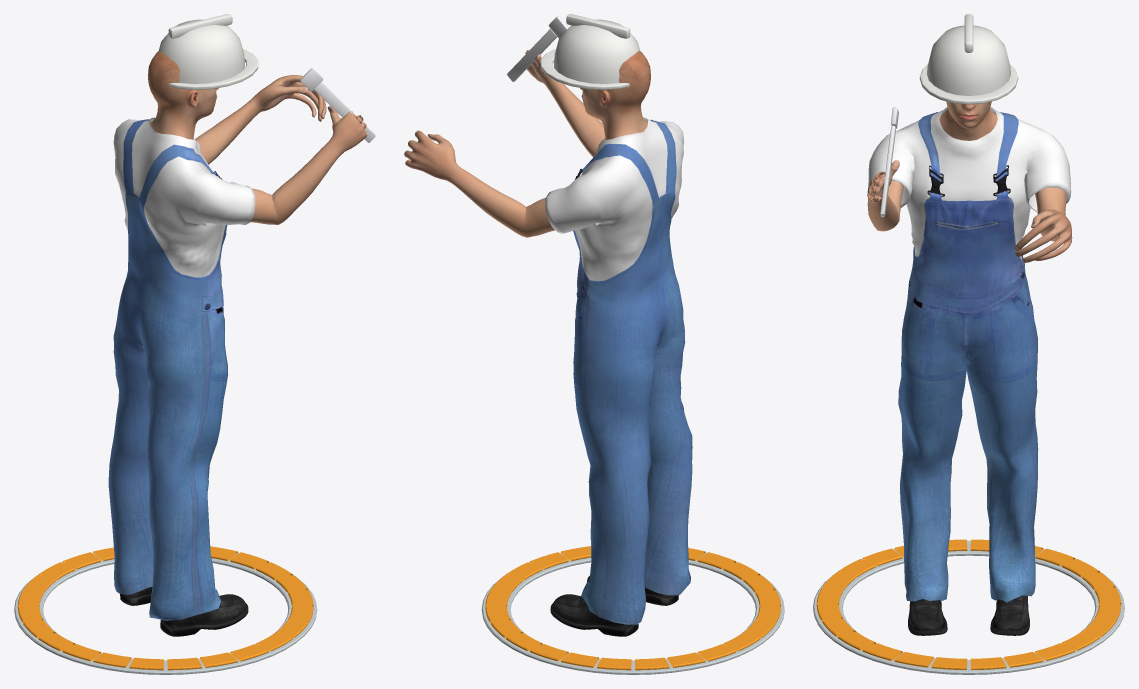
The model's file is MDO-OBR-010.glb.
The picture shows the model from 3 angles, left to right: view 1: azimuth 30°, elevation 25°; view 2: azimuth 150°, elevation 25°; view 3: azimuth 270°, elevation 25°; orthographic projection. The views are drawn at different scales.
Visible parts, largest first — view 1: MDO-OBR-010_pessoa_male_worksuit01, MDO-OBR-010_pessoa, MDO-OBR-010_capacete, MDO-OBR-010_anel_fundo, MDO-OBR-010_pessoa_shoes04, MDO-OBR-010_capacete_aba, MDO-OBR-010_capacete_friso, MDO-OBR-010_ferD_cabo; view 2: MDO-OBR-010_pessoa_male_worksuit01, MDO-OBR-010_pessoa, MDO-OBR-010_capacete, MDO-OBR-010_anel_fundo, MDO-OBR-010_pessoa_shoes04, MDO-OBR-010_capacete_aba, MDO-OBR-010_ferD_cabo, MDO-OBR-010_capacete_friso; view 3: MDO-OBR-010_pessoa_male_worksuit01, MDO-OBR-010_pessoa, MDO-OBR-010_capacete, MDO-OBR-010_anel_fundo, MDO-OBR-010_pessoa_shoes04, MDO-OBR-010_capacete_aba, MDO-OBR-010_ferD_cabo.
Boxes of the visible parts, <box> form: MDO-OBR-010_pessoa_male_worksuit01: <box>108,117,255,620</box>; MDO-OBR-010_pessoa: <box>148,51,367,224</box>; MDO-OBR-010_capacete: <box>158,19,244,83</box>; MDO-OBR-010_anel_fundo: <box>14,552,317,674</box>; MDO-OBR-010_pessoa_shoes04: <box>120,587,248,636</box>; MDO-OBR-010_capacete_aba: <box>169,49,258,89</box>; MDO-OBR-010_capacete_friso: <box>168,14,232,38</box>; MDO-OBR-010_ferD_cabo: <box>314,82,375,142</box>; MDO-OBR-010_pessoa_male_worksuit01: <box>545,117,692,624</box>; MDO-OBR-010_pessoa: <box>404,50,650,237</box>; MDO-OBR-010_capacete: <box>554,19,640,83</box>; MDO-OBR-010_anel_fundo: <box>481,552,784,674</box>; MDO-OBR-010_pessoa_shoes04: <box>550,576,678,636</box>; MDO-OBR-010_capacete_aba: <box>540,49,629,89</box>; MDO-OBR-010_ferD_cabo: <box>507,28,556,81</box>; MDO-OBR-010_capacete_friso: <box>566,14,630,38</box>; MDO-OBR-010_pessoa_male_worksuit01: <box>868,107,1071,602</box>; MDO-OBR-010_pessoa: <box>867,101,1072,262</box>; MDO-OBR-010_capacete: <box>927,25,1010,95</box>; MDO-OBR-010_anel_fundo: <box>813,540,1124,674</box>; MDO-OBR-010_pessoa_shoes04: <box>908,595,1029,635</box>; MDO-OBR-010_capacete_aba: <box>919,64,1018,104</box>; MDO-OBR-010_ferD_cabo: <box>880,126,895,217</box>.
Size of the model in its own units: 1.03 by 1.79 by 0.84.
9 materials, 5 textured.
